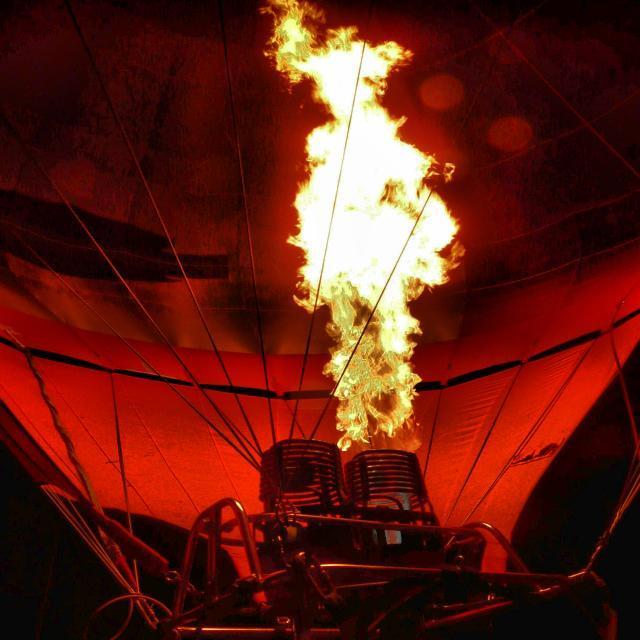Fire: (271, 0, 460, 352)
